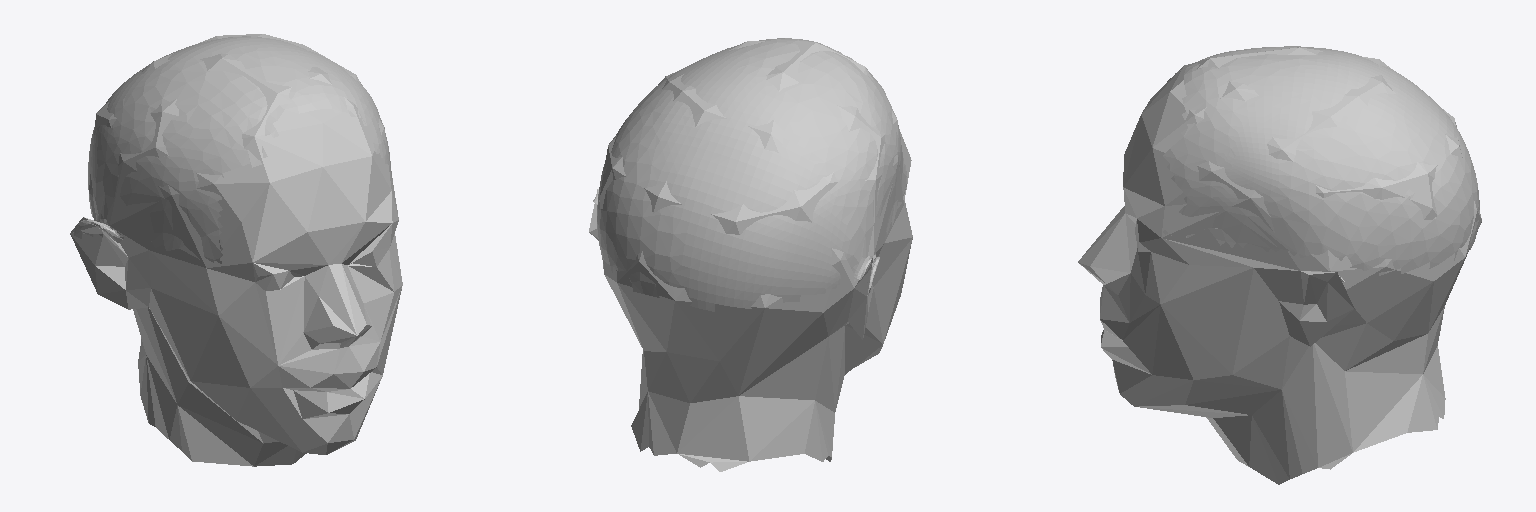
Rendered from ilan.obj.
3 renders of one model, left to right at view 1: azimuth 30°, elevation 25°; view 2: azimuth 150°, elevation 25°; view 3: azimuth 270°, elevation 25°, orthographic.
Parts seen in each view (by area): view 1: FaceBuilderHead_FaceBuilderHead_mesh, FaceBuilderHead.001_FaceBuilderHead_mesh.001; view 2: FaceBuilderHead.001_FaceBuilderHead_mesh.001, FaceBuilderHead_FaceBuilderHead_mesh; view 3: FaceBuilderHead_FaceBuilderHead_mesh, FaceBuilderHead.001_FaceBuilderHead_mesh.001.
Part boxes in pixels (bbox=[...]): FaceBuilderHead_FaceBuilderHead_mesh: bbox=[70, 34, 402, 466]; FaceBuilderHead.001_FaceBuilderHead_mesh.001: bbox=[74, 36, 392, 263]; FaceBuilderHead.001_FaceBuilderHead_mesh.001: bbox=[593, 38, 907, 311]; FaceBuilderHead_FaceBuilderHead_mesh: bbox=[589, 41, 912, 471]; FaceBuilderHead_FaceBuilderHead_mesh: bbox=[1078, 47, 1481, 484]; FaceBuilderHead.001_FaceBuilderHead_mesh.001: bbox=[1163, 46, 1479, 281].
Bounding box in the file's own units: 1.63 × 2.14 × 2.